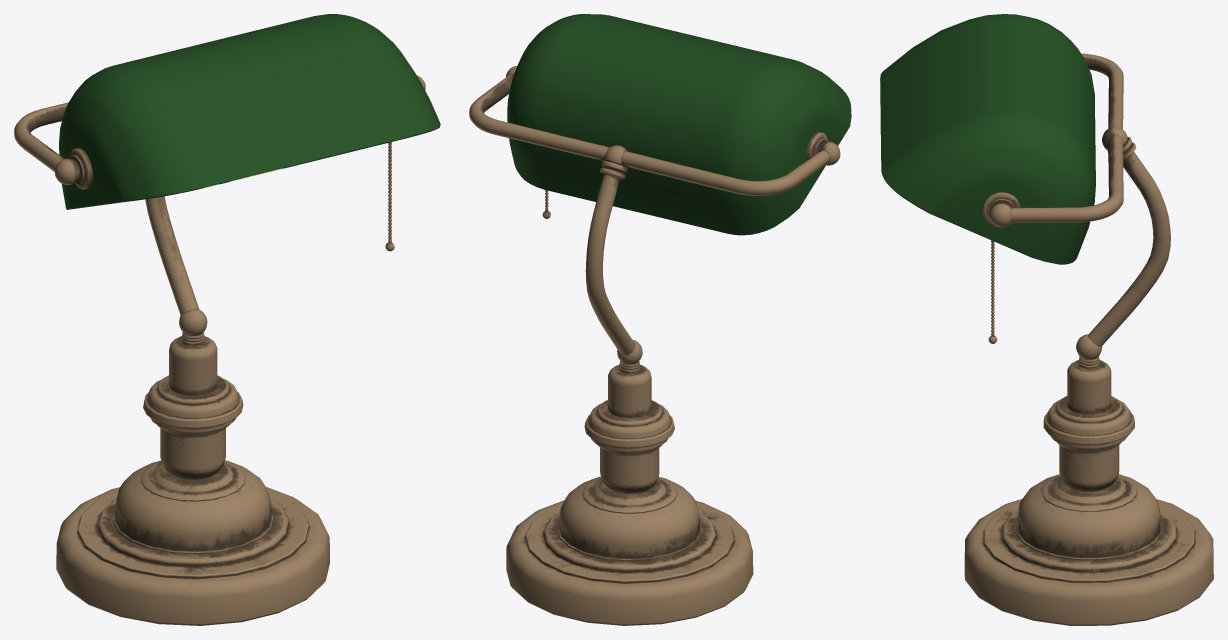
Rendered from lamp-2.glb.
The picture shows the model from 3 angles, left to right: view 1: azimuth 30°, elevation 25°; view 2: azimuth 150°, elevation 25°; view 3: azimuth 270°, elevation 25°; orthographic projection. The views are drawn at different scales.
Parts seen in each view (by area): view 1: Lamp1_Lamp_0; view 2: Lamp1_Lamp_0; view 3: Lamp1_Lamp_0.
Boxes of the visible parts, x1,y1,x2,y2 form: Lamp1_Lamp_0: [14, 14, 440, 625]; Lamp1_Lamp_0: [469, 14, 851, 625]; Lamp1_Lamp_0: [880, 14, 1213, 625].
Size of the model in its own units: 0.24 by 0.346 by 0.2053.
1 material, 1 textured.
